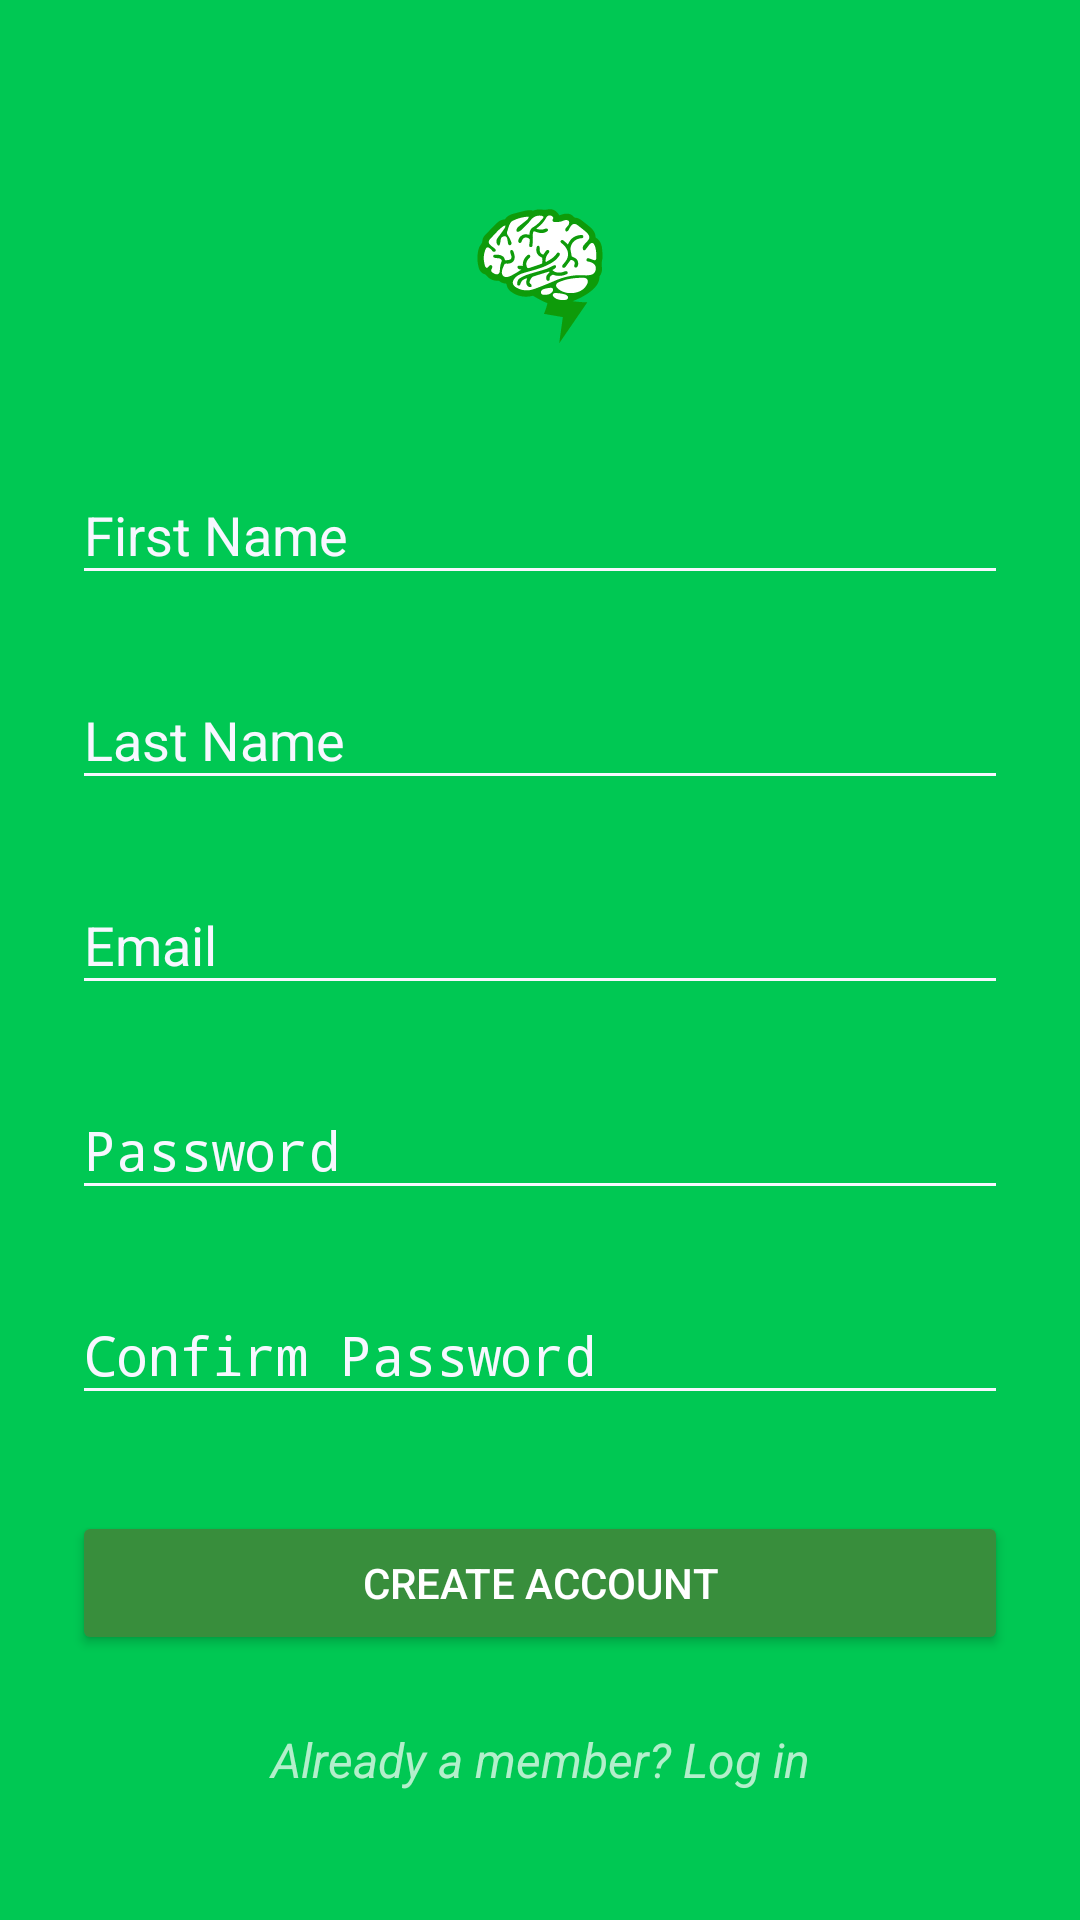

Screen size 1080x1920. Icon name, then its center in pixels as point (x, y):
brain: point (540, 276)
